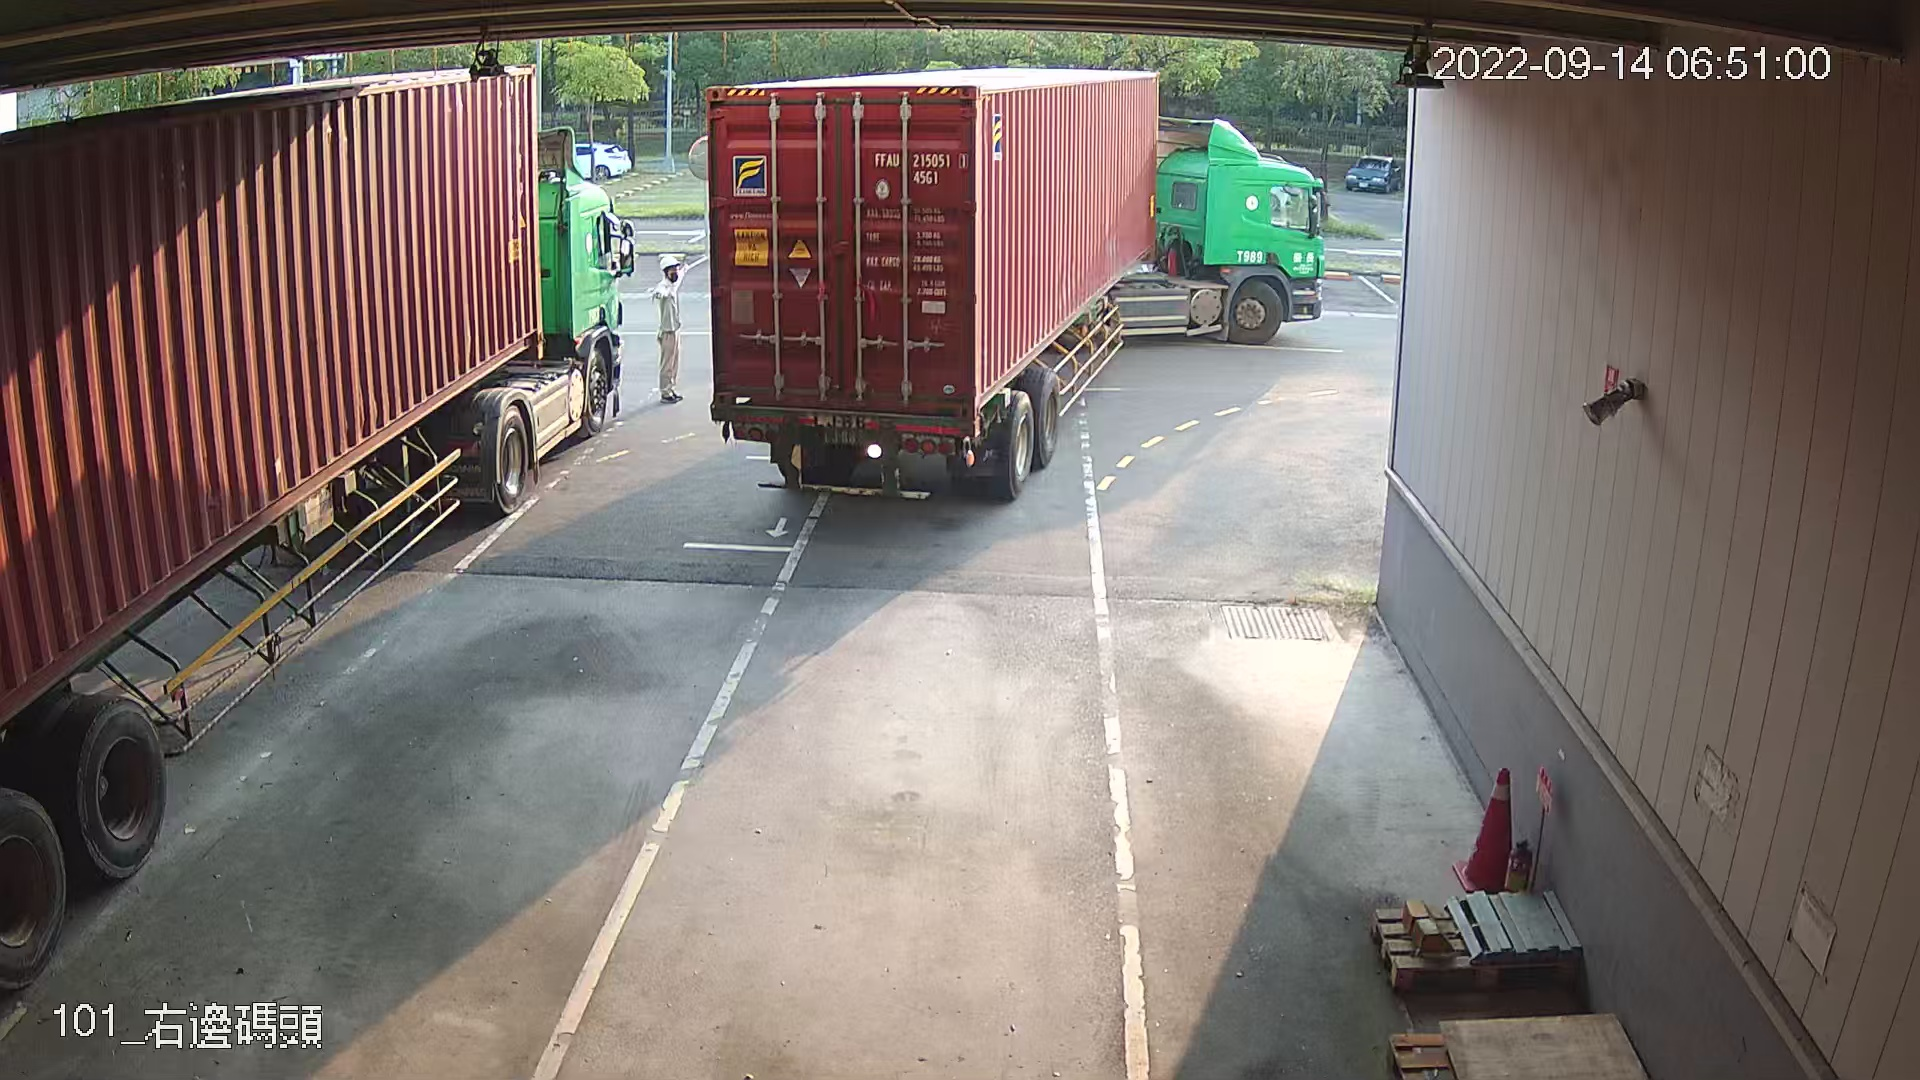container: (866, 145, 972, 189)
